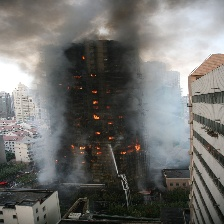fire: (120, 140, 145, 155), (93, 145, 104, 159), (68, 139, 76, 149), (90, 114, 99, 121), (79, 146, 86, 155), (92, 100, 100, 106), (90, 88, 98, 94), (95, 130, 103, 136), (108, 136, 114, 140)
smoke: (1, 1, 83, 181), (114, 1, 195, 177)
